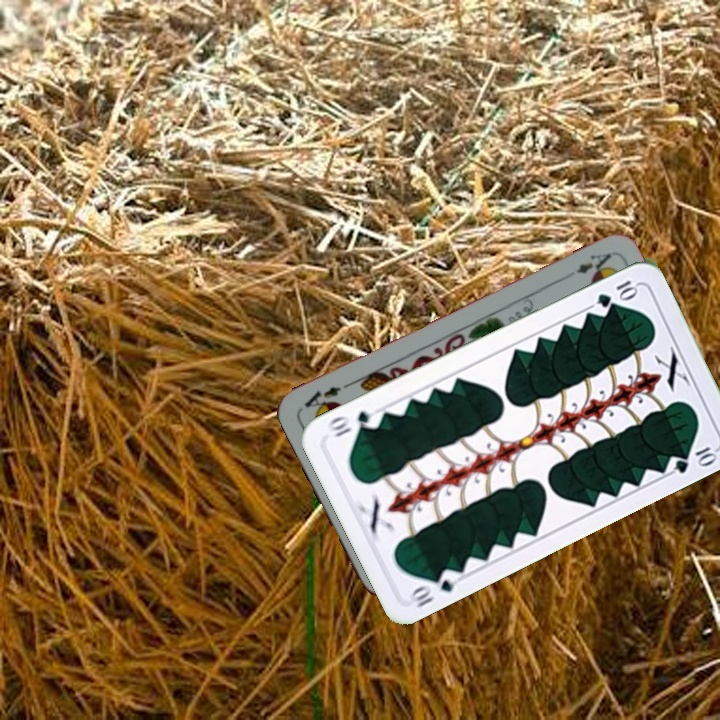EA: (572, 249, 614, 281)
G10: (405, 565, 463, 611), (593, 276, 641, 310)
